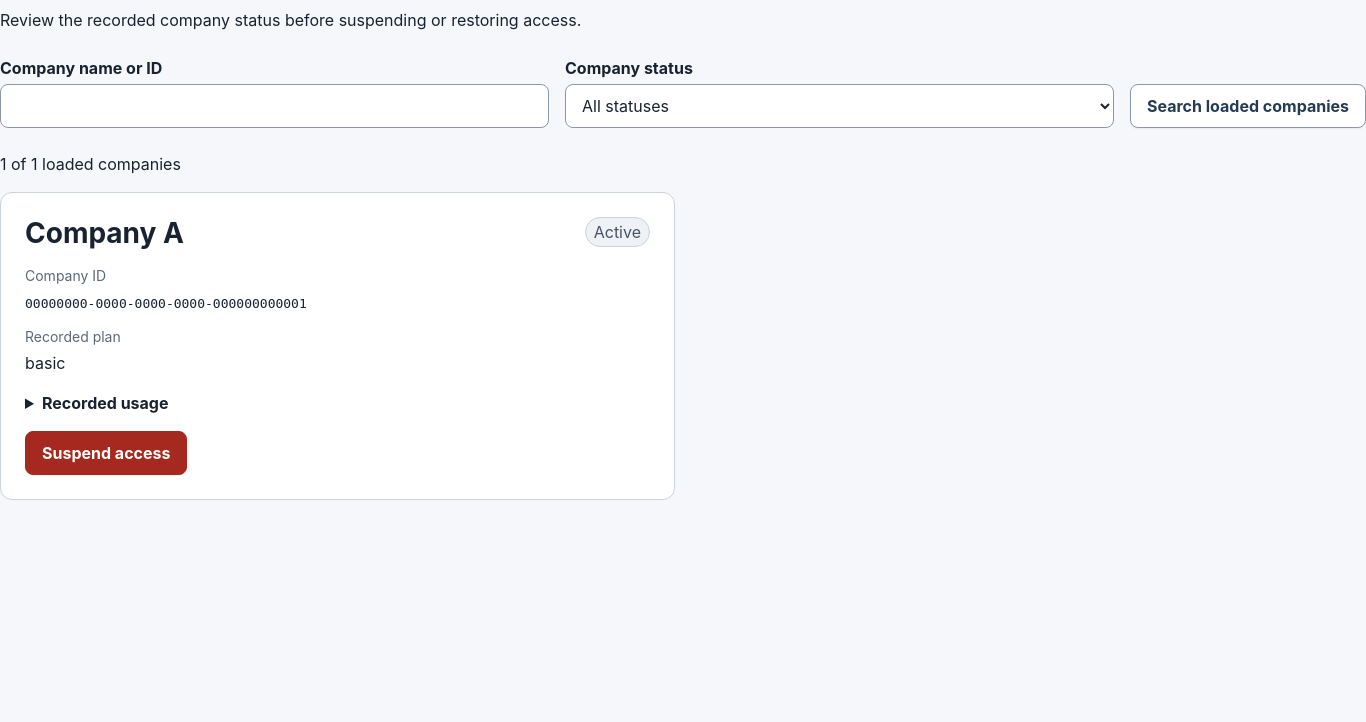
Test case: locks a duplicate suspend and takes status and counts from the authoritative reload
The image size is (1366, 722).
Click the button with aria-label "Suspend access for Company A": (106, 453) [25, 431, 187, 475]
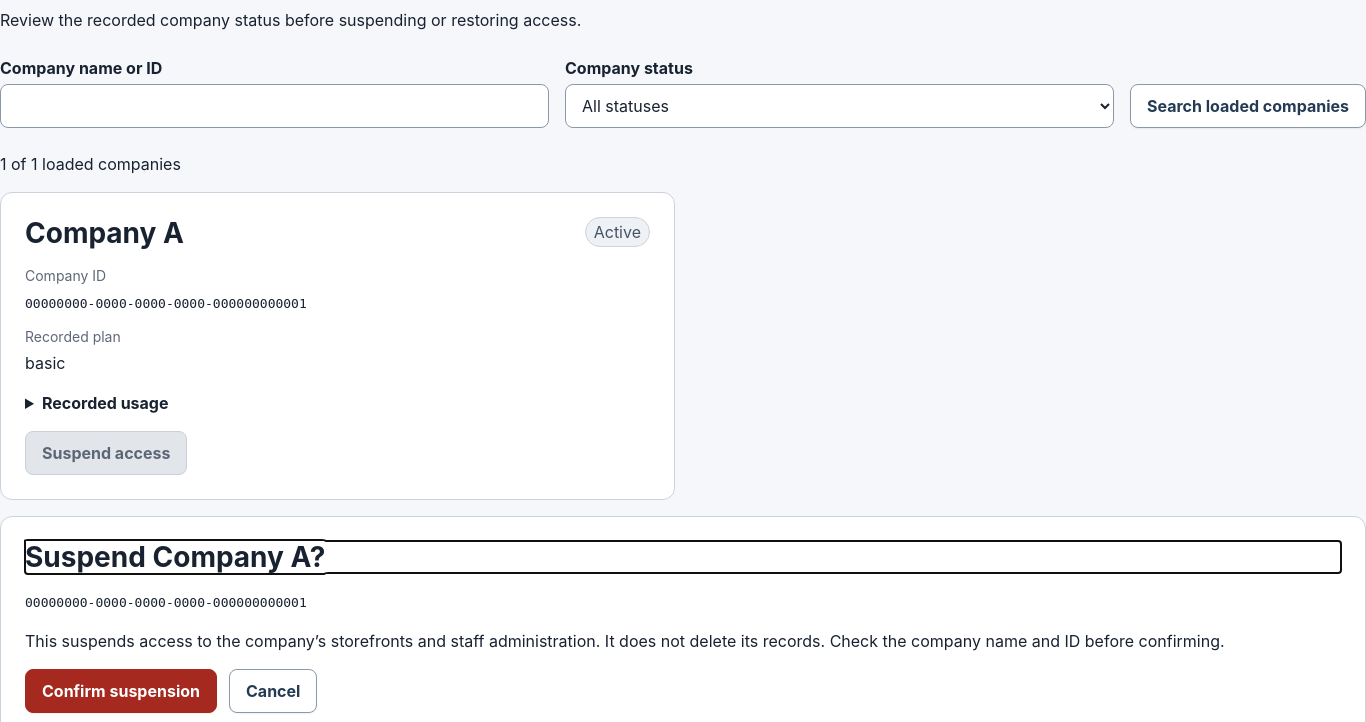
Click the button "Confirm suspension": (121, 691) [25, 669, 217, 713]
(page scrolled)
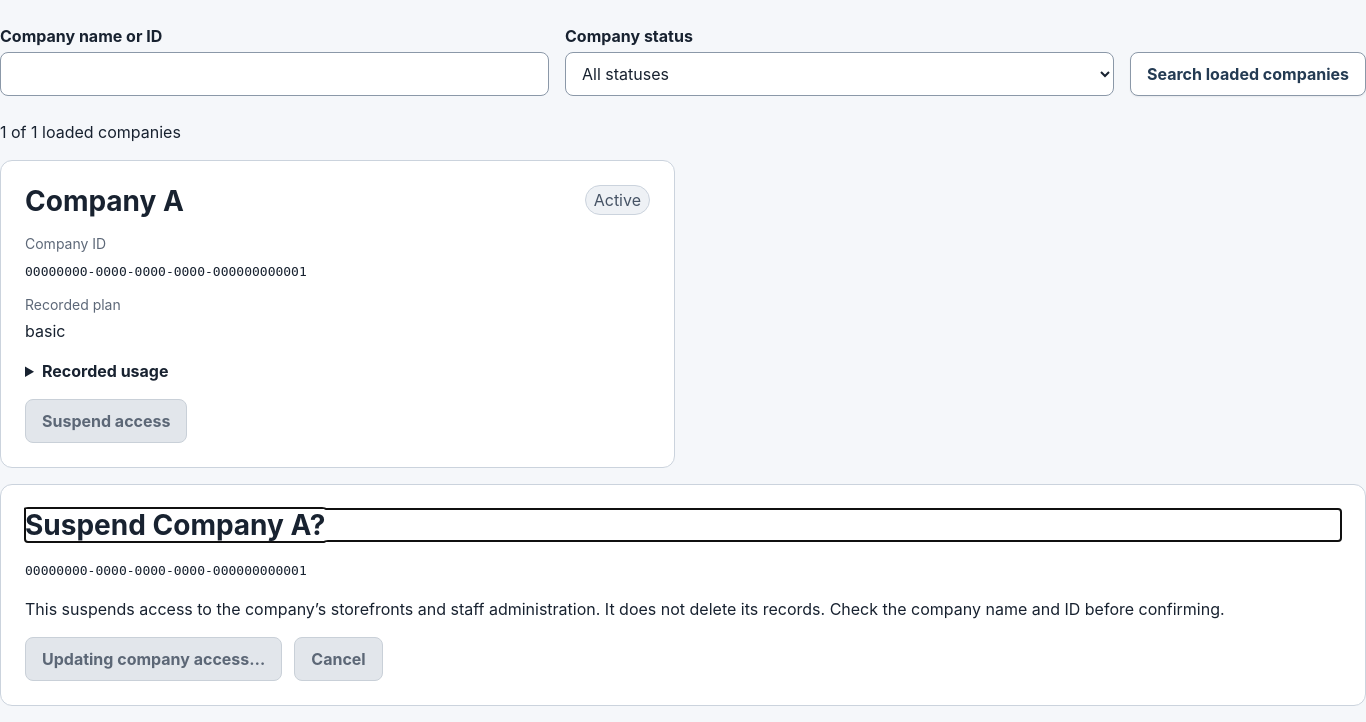
Click the button named "Confirm suspension": (154, 659) [25, 637, 282, 681]
(page scrolled)
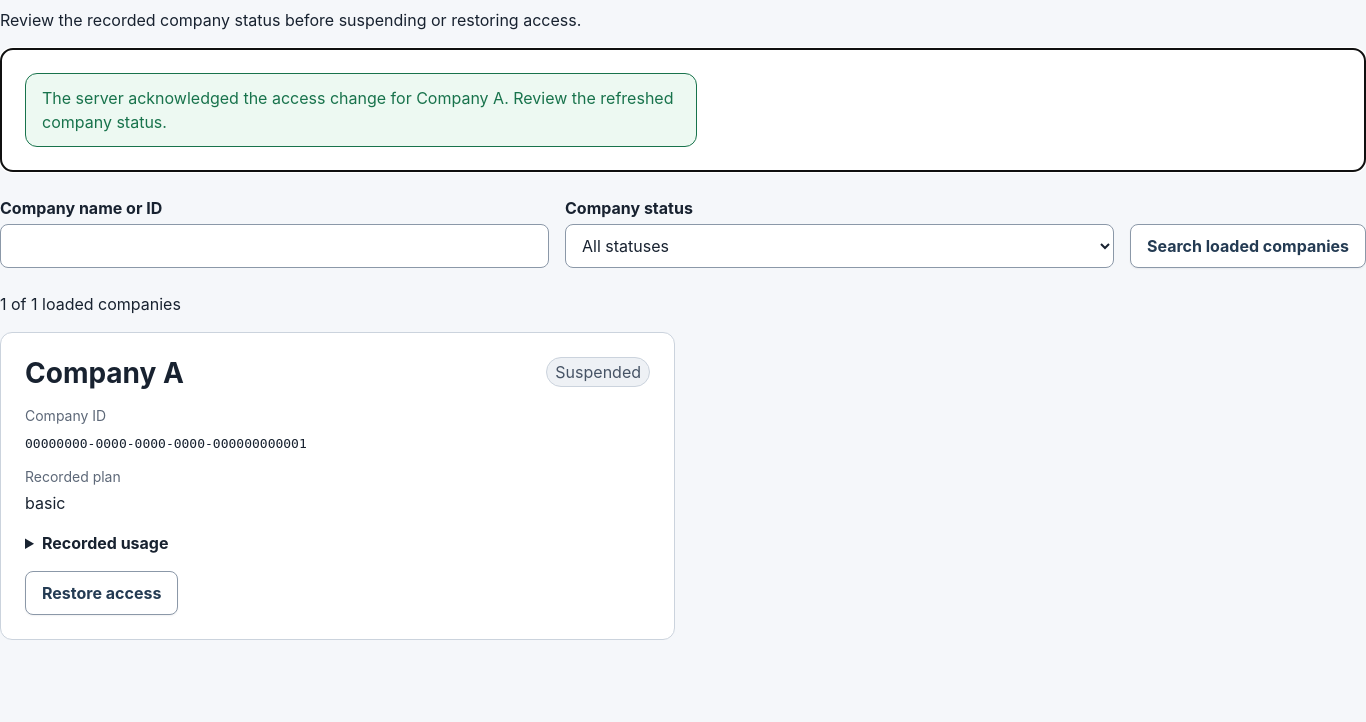
expect the text "The server acknowledged" is shown: met, box [42, 88, 674, 132]
Click the heading "Recorded usage": (105, 543) [42, 533, 168, 553]
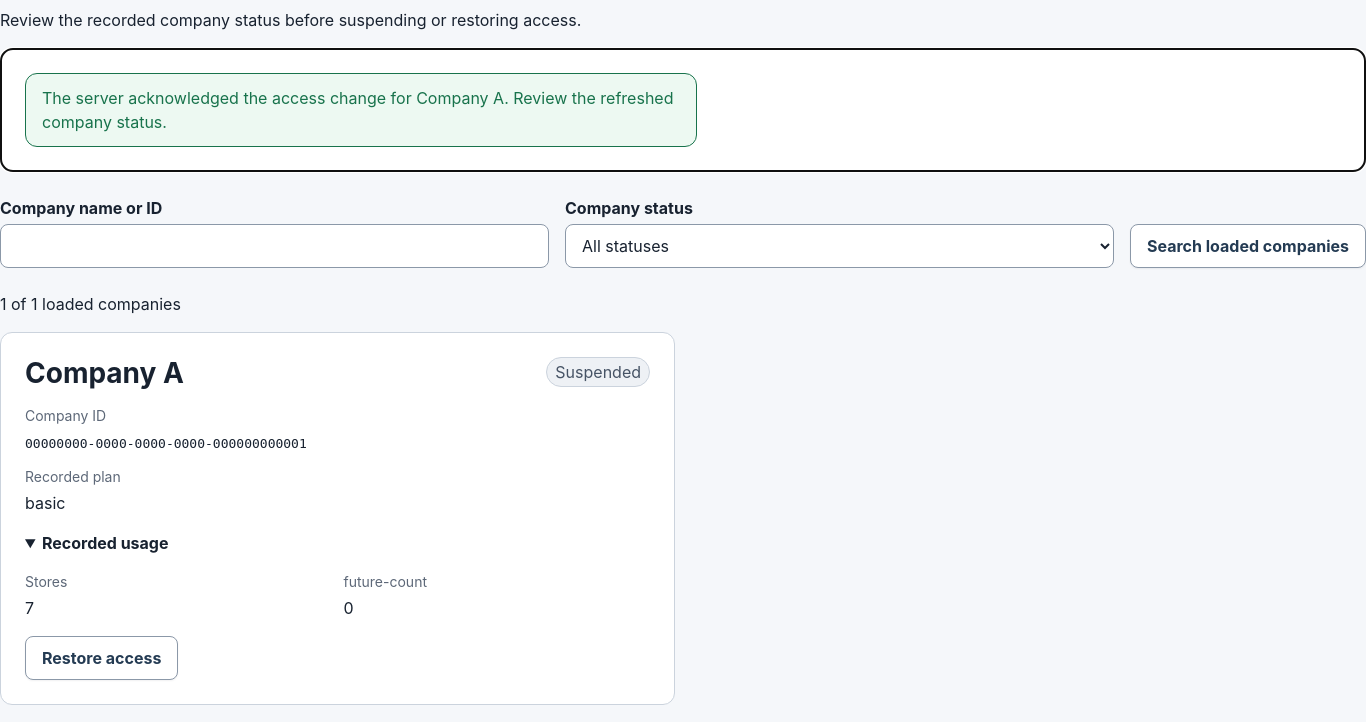
expect the text "7" is shown: met, box [25, 598, 34, 618]
